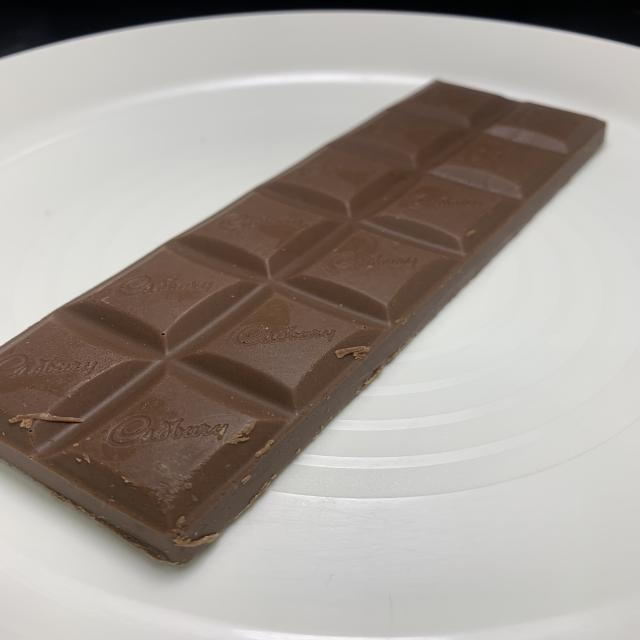Chocolate: (0, 77, 603, 560)
